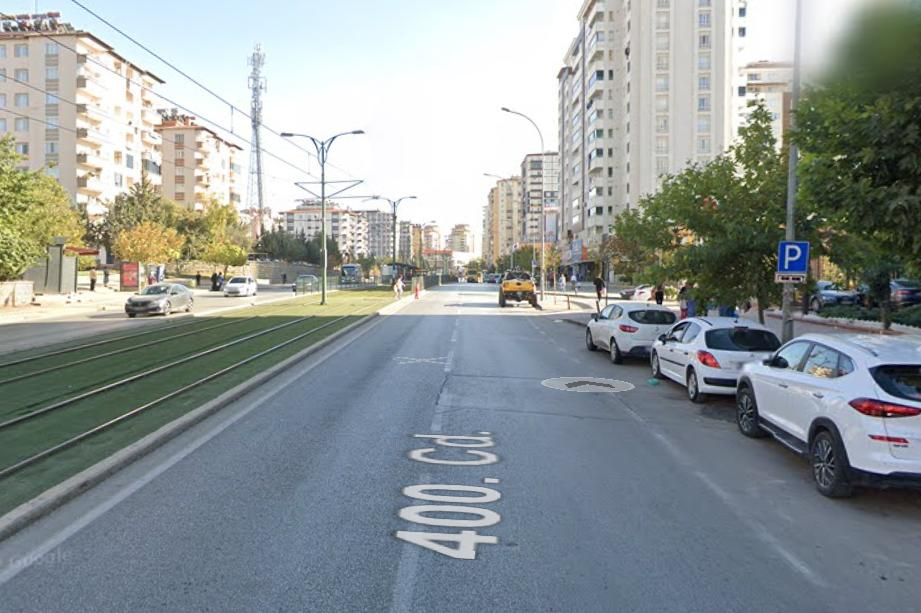park: (780, 241, 809, 272)
